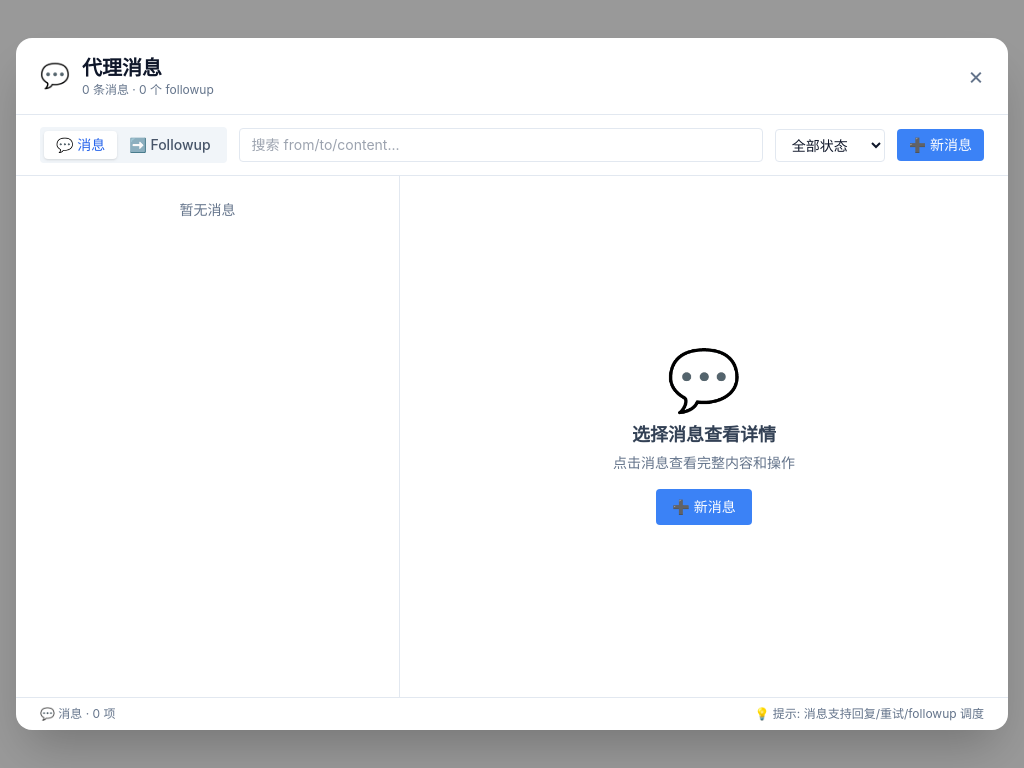
Test: AgentMessagingPanel › 点击新消息按钮显示撰写表单
Click the button with test id "compose-button" at (940, 145), box left=897, top=129, right=984, bottom=161
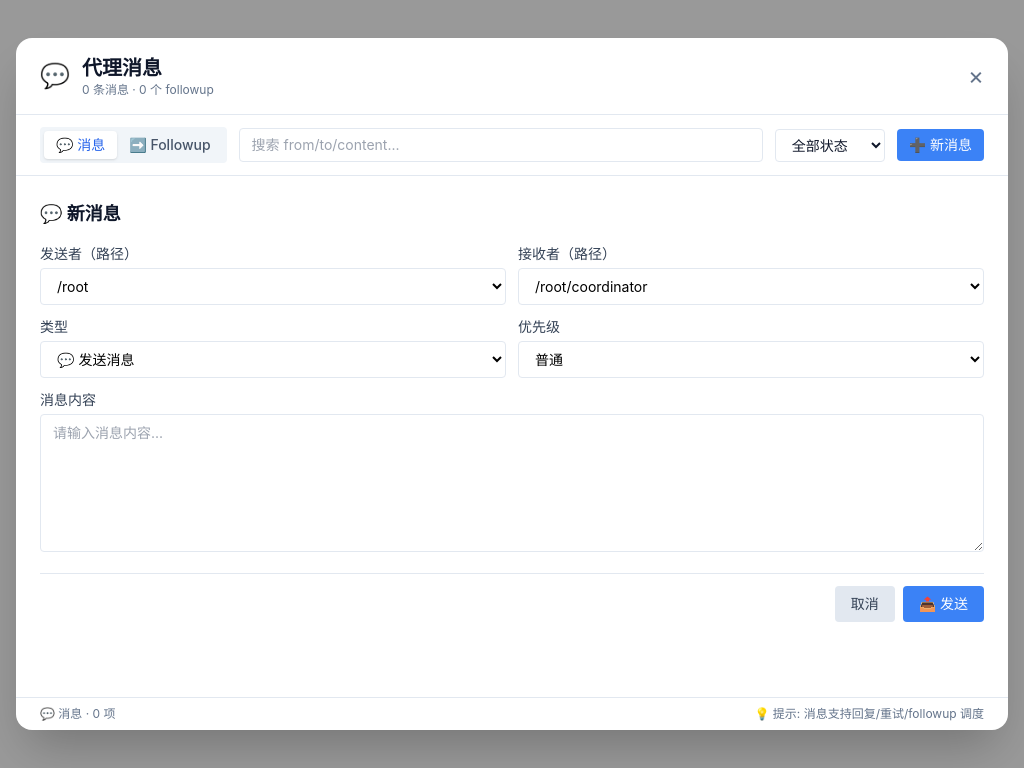
Expected: the element with test id "compose-form" is shown
